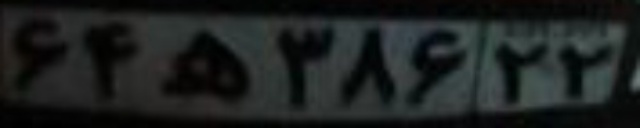2: (493, 40, 549, 104), (556, 40, 613, 99)
3: (273, 24, 335, 111)
4: (82, 21, 142, 103)
6: (7, 13, 72, 98), (408, 28, 469, 106)
8: (340, 26, 401, 108)
he: (158, 29, 254, 102)
